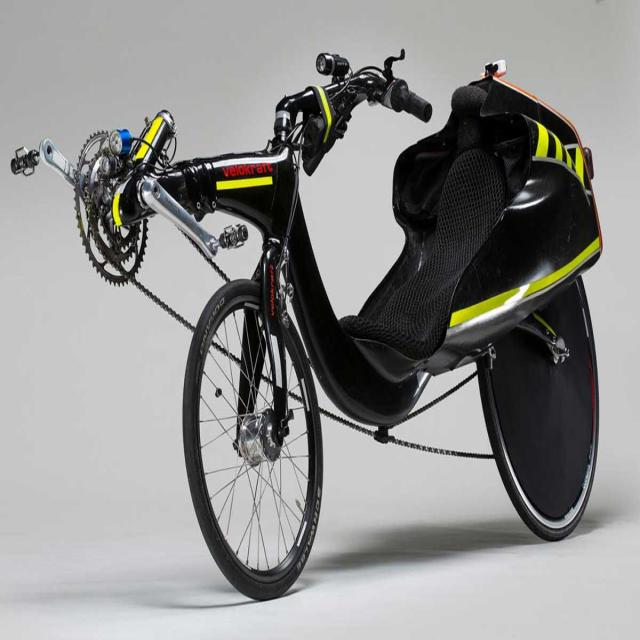recumbent-bike: (12, 45, 601, 601)
